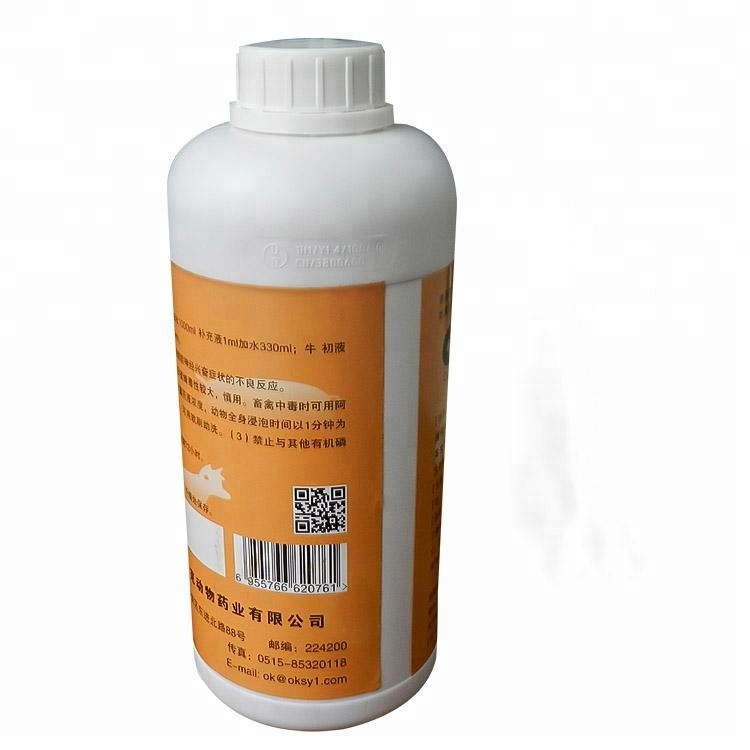Insecticide: (159, 21, 465, 737)
